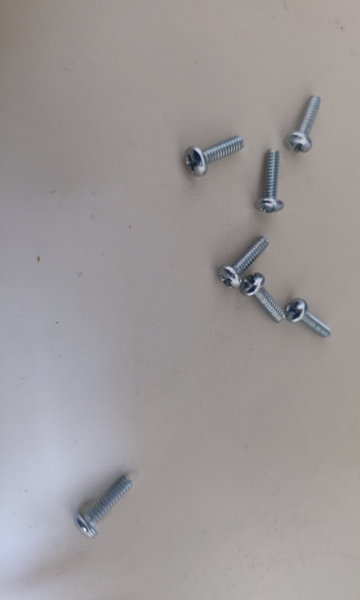shortscrew: (72, 475, 134, 539), (218, 236, 270, 289), (185, 136, 244, 177), (240, 273, 286, 324), (286, 95, 322, 154), (255, 150, 285, 213), (286, 299, 332, 339)
